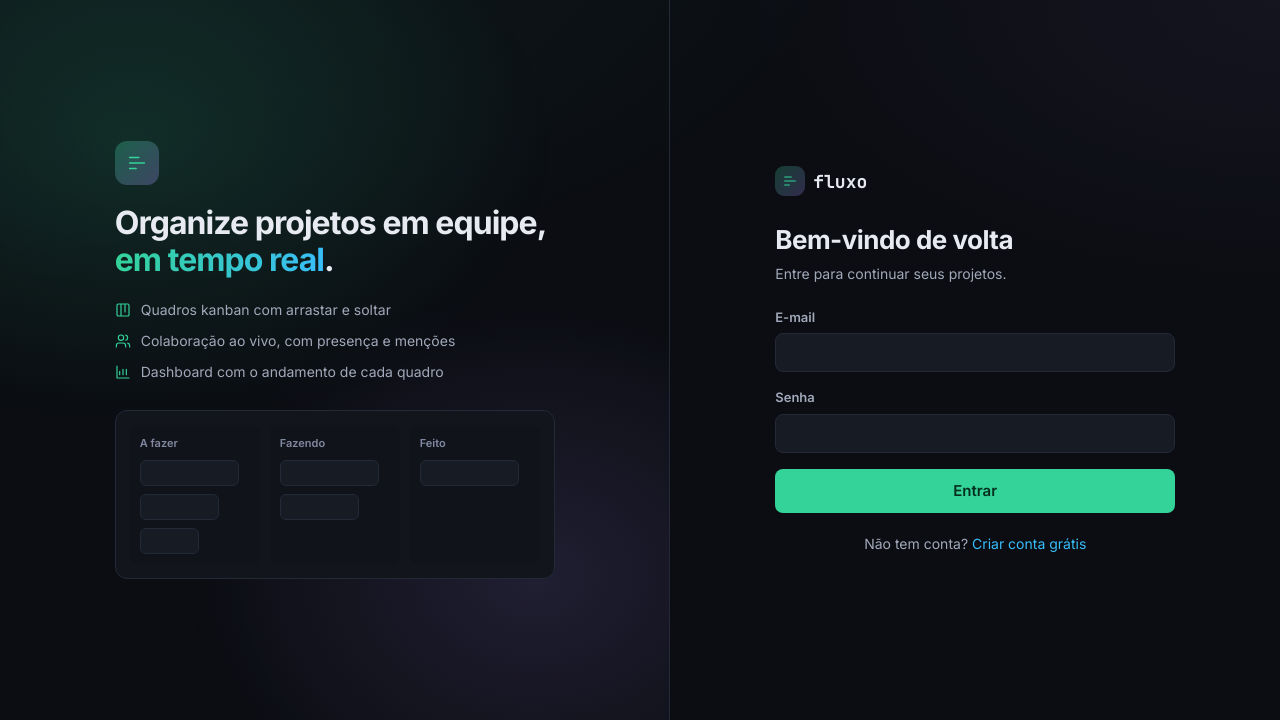
Test case: Página de login › mostra o erro da API para credenciais erradas
Type "ana@teste.com" into the field labelled "E-mail".
click(975, 353); type("ana@teste.com")  # box [775, 333, 1175, 372]
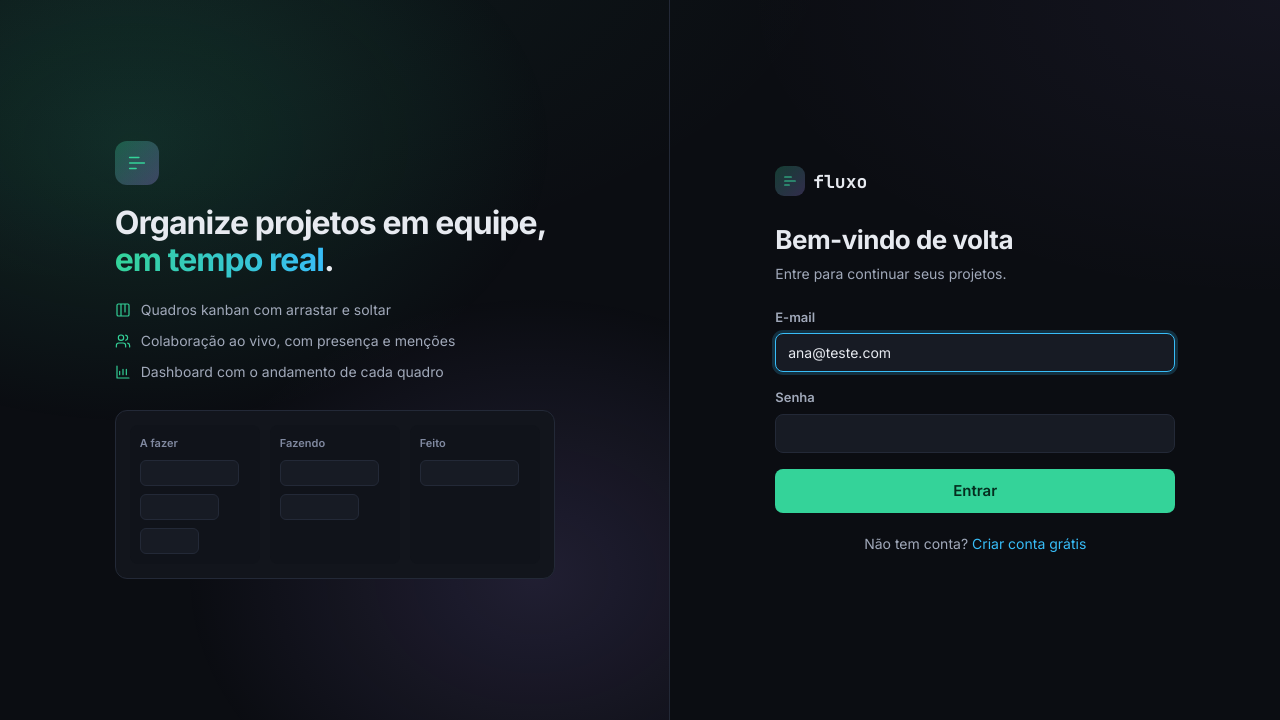
Type "errada123" into the password field labelled "Senha".
click(975, 433); type("errada123")  # box [775, 414, 1175, 453]
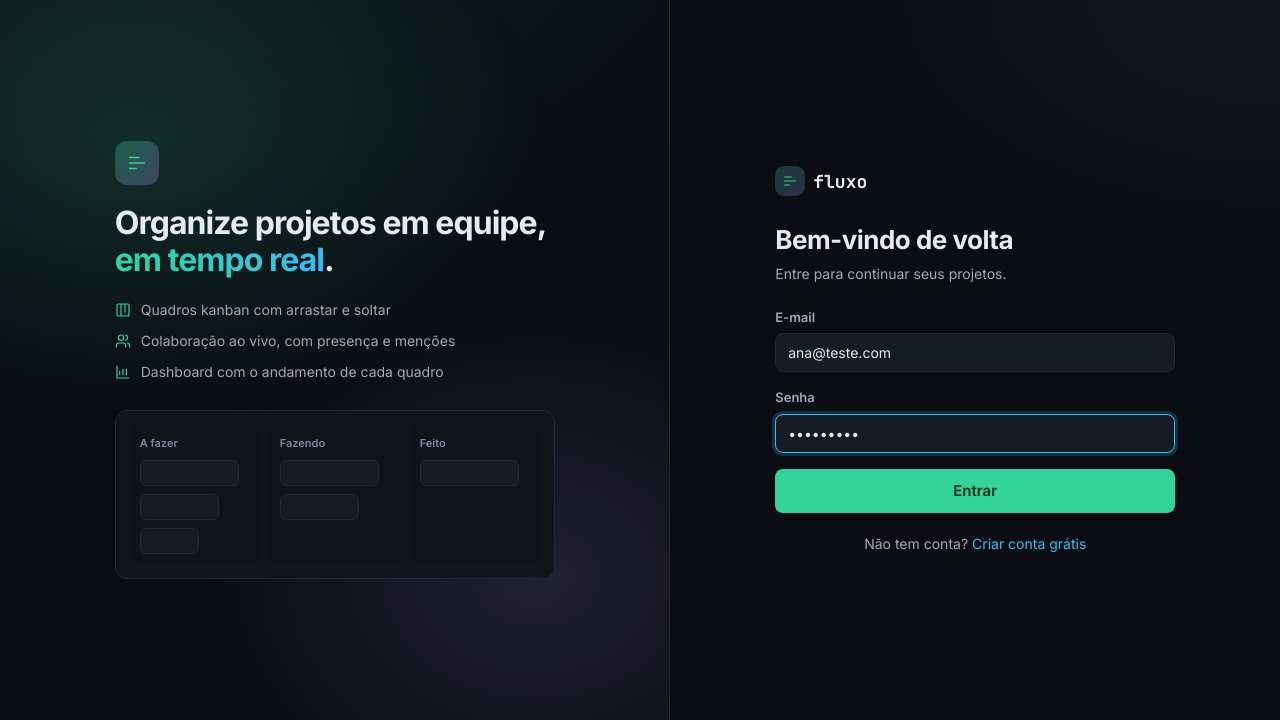
Click the button "Entrar".
click(975, 491)  # box [775, 469, 1175, 513]
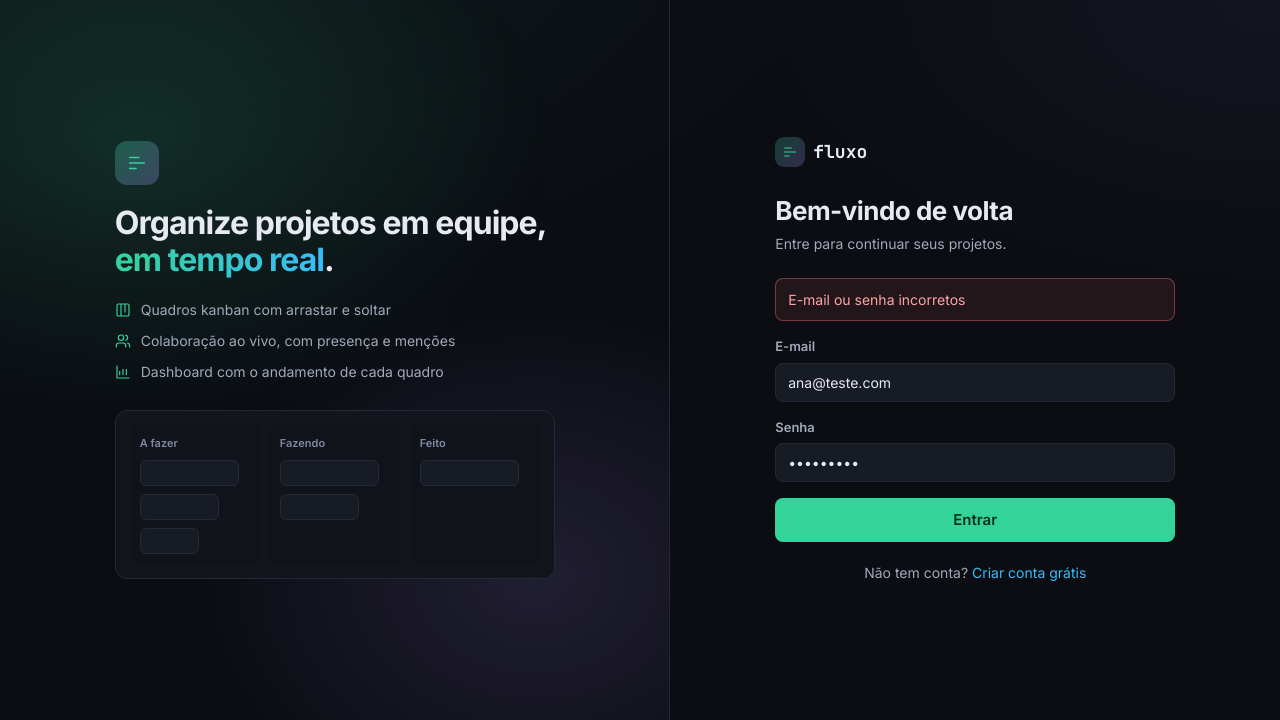
Now the message reads "E-mail ou senha incorretos", box [788, 291, 965, 308]
